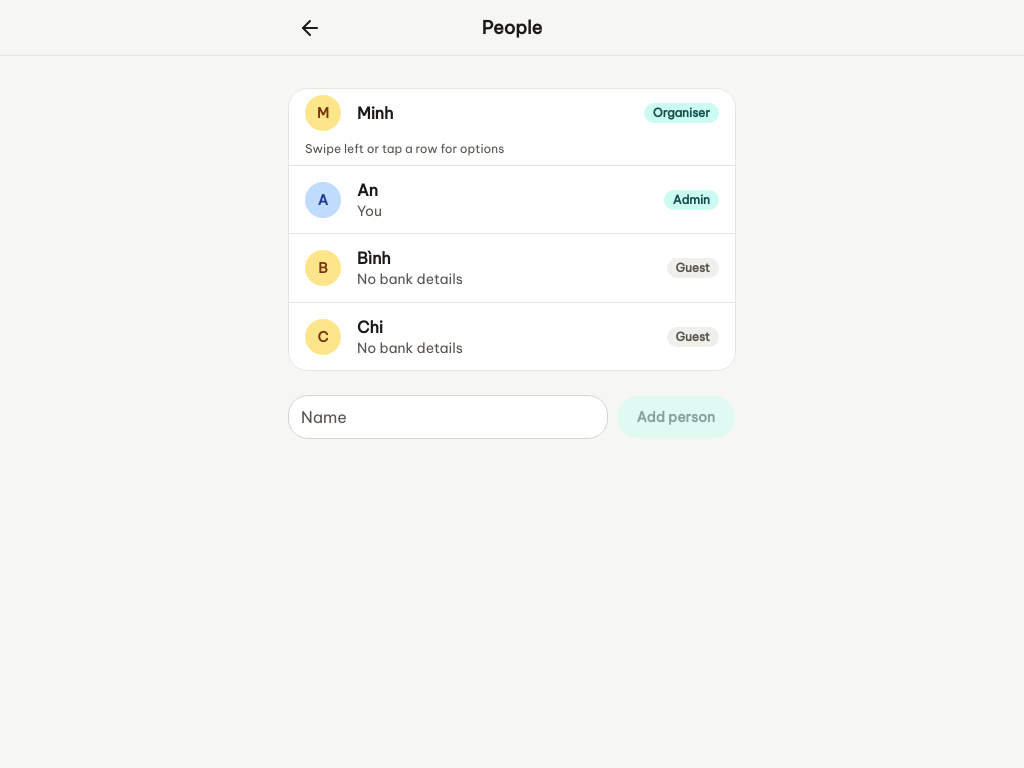
Test case: People › on a phone the actions sit behind a swipe, and the sheet is the way to them
The width and height of the screenshot is (1024, 768).
Expected: the button with aria-label "Bình," is shown, [341,234,735,302]
Expected: the button "Remove" is not shown
What coordinates should you click on to do the following:
click the button with aria-label "Chi,"
I would click on:
 (410, 348)
Its box is [341,302,735,370].
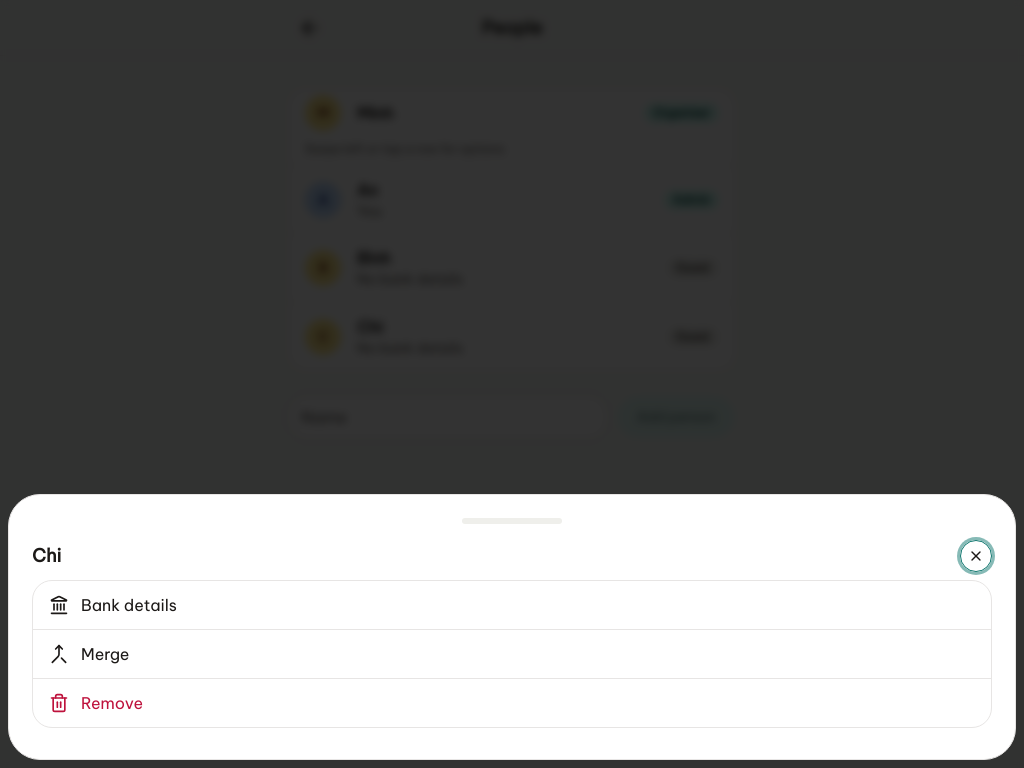
Result: the button "Remove" is shown at [33,679,991,727]
